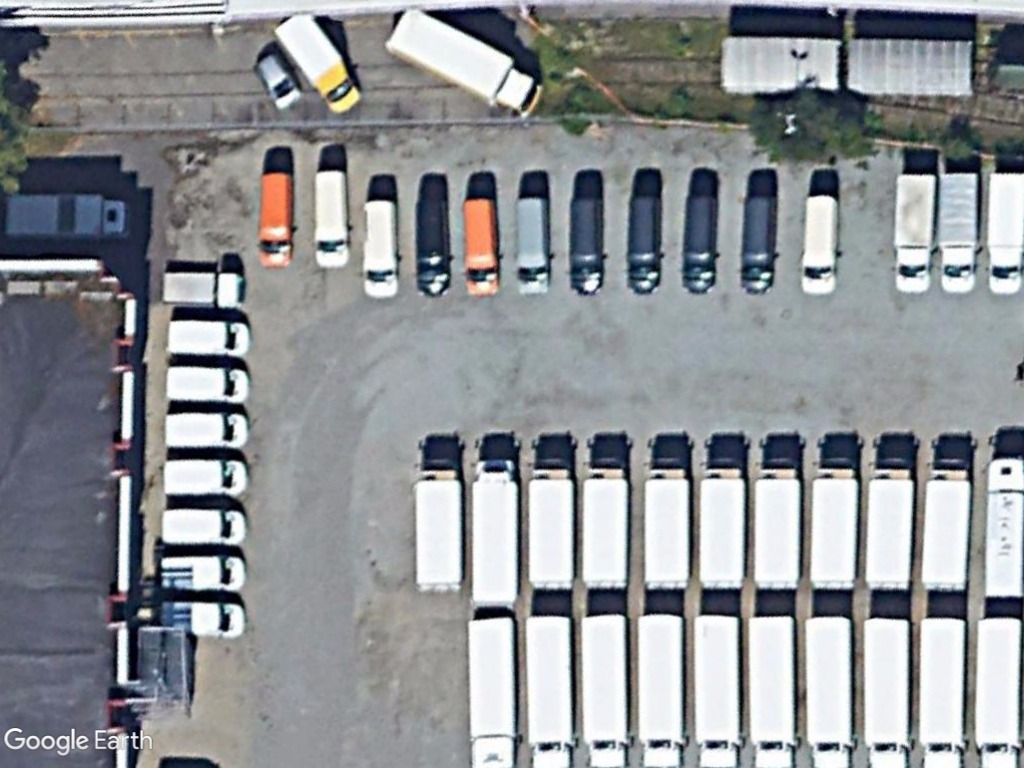car: (252, 50, 302, 111)
truck: (385, 4, 542, 119), (267, 8, 363, 117), (576, 610, 632, 768), (744, 608, 799, 768), (858, 612, 913, 768), (465, 610, 519, 768), (635, 608, 688, 768), (801, 611, 854, 768), (915, 612, 968, 768), (917, 453, 974, 595), (863, 449, 918, 596), (468, 453, 521, 604), (524, 612, 575, 768), (808, 448, 862, 595), (974, 611, 1024, 768), (693, 609, 742, 768), (413, 454, 466, 599), (751, 459, 805, 593), (579, 462, 634, 592), (2, 189, 134, 243), (641, 460, 694, 593), (527, 456, 575, 595), (697, 461, 745, 591), (889, 168, 937, 297), (983, 452, 1024, 603), (937, 165, 980, 297), (984, 168, 1024, 298), (158, 453, 252, 499), (159, 504, 250, 550), (159, 361, 251, 406), (157, 407, 251, 451), (164, 316, 254, 359), (157, 555, 247, 595)
van: (309, 167, 351, 273), (799, 193, 841, 297), (359, 195, 400, 301), (736, 192, 776, 296), (677, 192, 716, 297), (258, 169, 296, 272), (624, 192, 661, 296), (567, 194, 604, 297), (512, 194, 548, 297), (463, 195, 497, 297)
